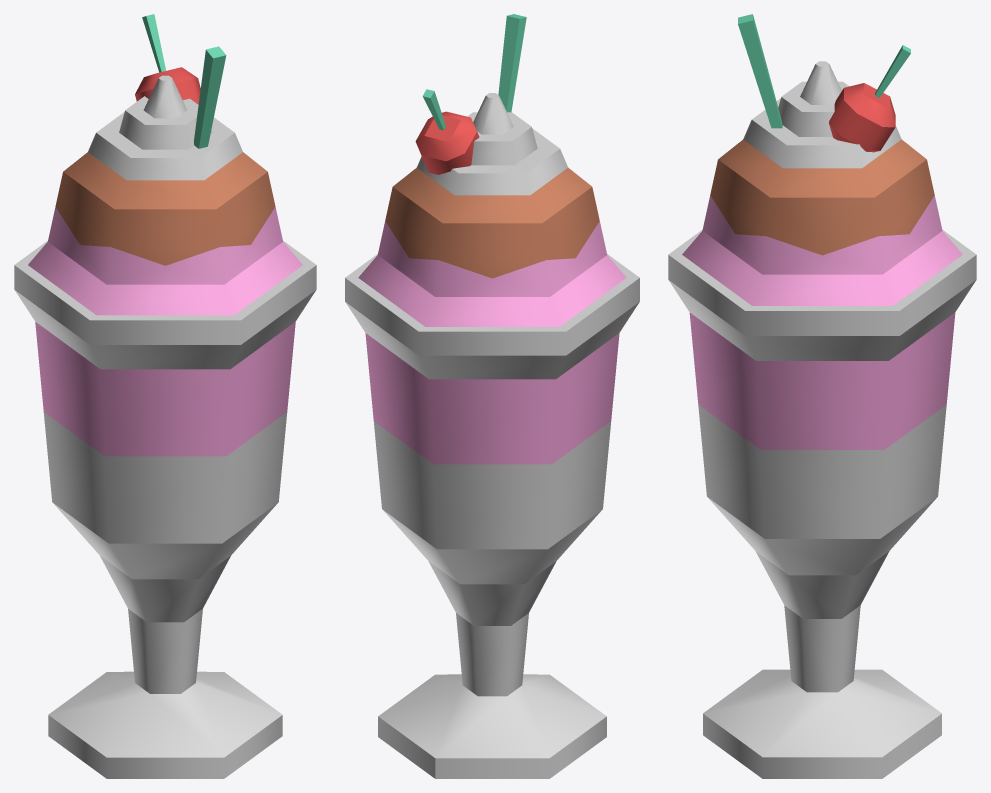
The model's file is sundae.fbx.
3 views of the same model, side by side, from view 1: azimuth 30°, elevation 25°; view 2: azimuth 150°, elevation 25°; view 3: azimuth 270°, elevation 25° (orthographic). The views are drawn at different scales.
Visible parts, largest first — view 1: sundae, straw, cherry; view 2: sundae, cherry, straw; view 3: sundae, cherry, straw.
Boxes of the visible parts, box(x1,y1,x2,y2) form: sundae: box(14, 75, 316, 778); straw: box(194, 46, 226, 148); cherry: box(135, 14, 200, 104); sundae: box(345, 93, 639, 778); cherry: box(415, 89, 479, 174); straw: box(498, 14, 526, 112); sundae: box(668, 61, 976, 778); cherry: box(829, 45, 910, 152); straw: box(738, 14, 782, 128).
Bounding box in the file's own units: 2.23 × 6.68 × 2.58.
